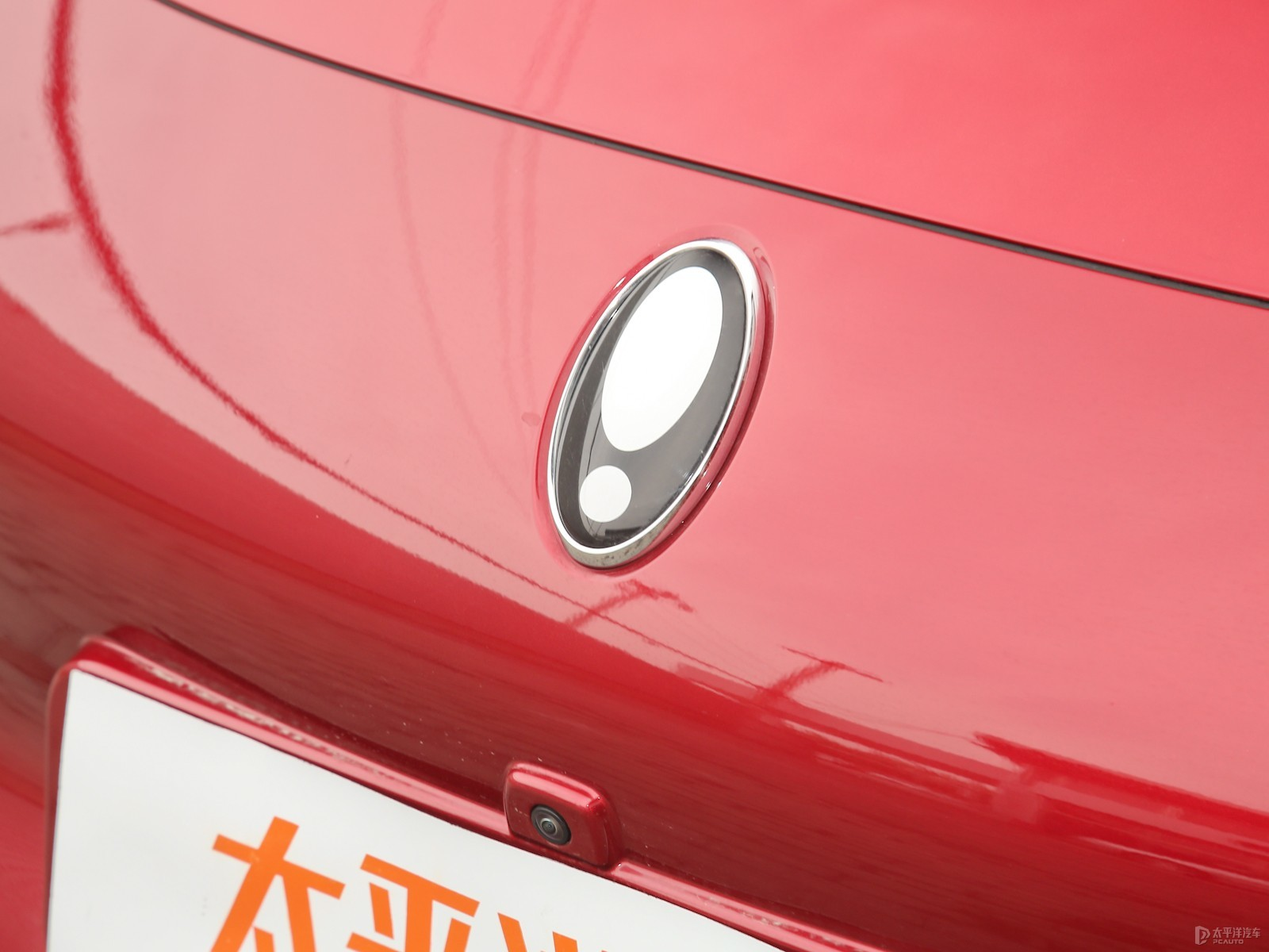ORA: (545, 240, 763, 566)
